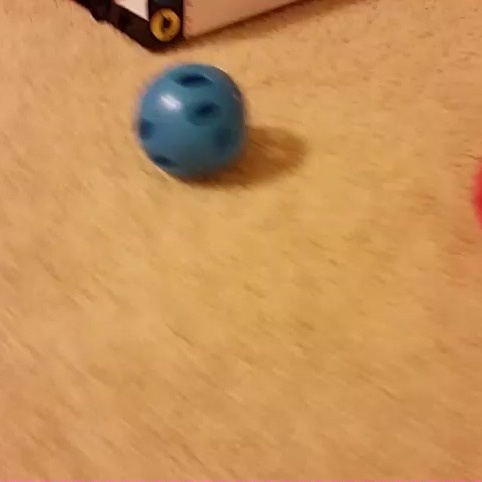ball: (129, 58, 250, 184)
